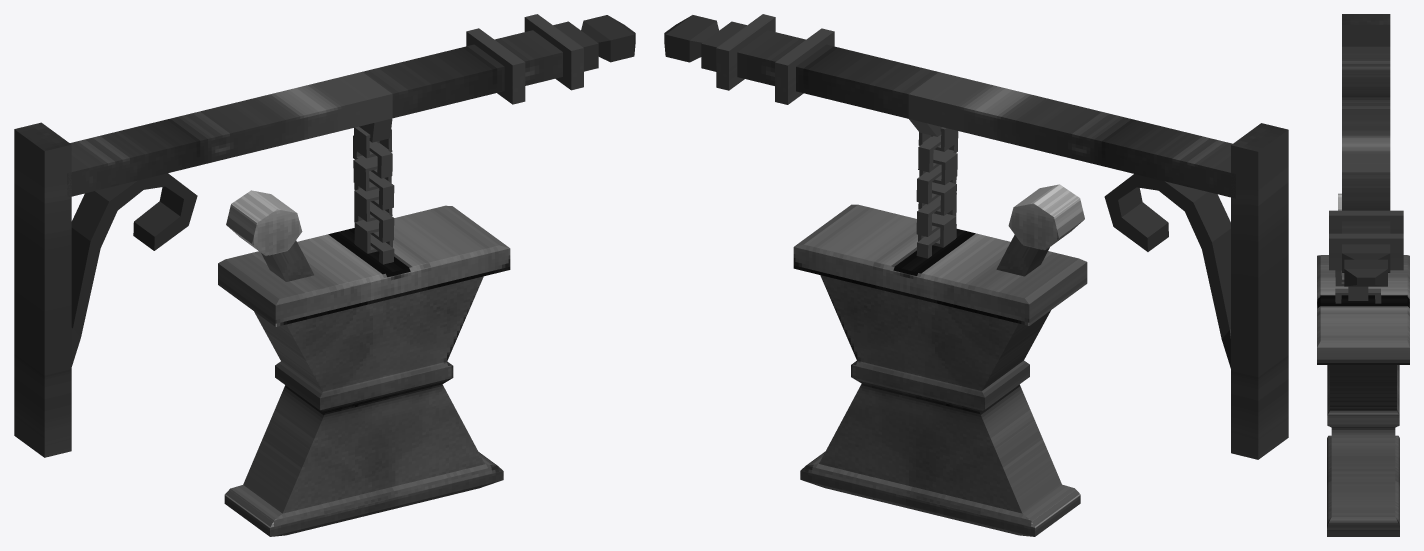
The model's file is sign_360x00.gltf.
3 views of the same model, side by side, from view 1: azimuth 30°, elevation 25°; view 2: azimuth 150°, elevation 25°; view 3: azimuth 270°, elevation 25° (orthographic). The views are drawn at different scales.
Visible parts, largest first — view 1: sign_360x00; view 2: sign_360x00; view 3: sign_360x00.
Part boxes in pixels (<box>): sign_360x00: <box>14,14,635,536</box>; sign_360x00: <box>664,14,1288,536</box>; sign_360x00: <box>1317,14,1409,536</box>.
Size of the model in its own units: 2.96 by 2.06 by 0.4935.
Materials: 1 (1 with a texture image).
